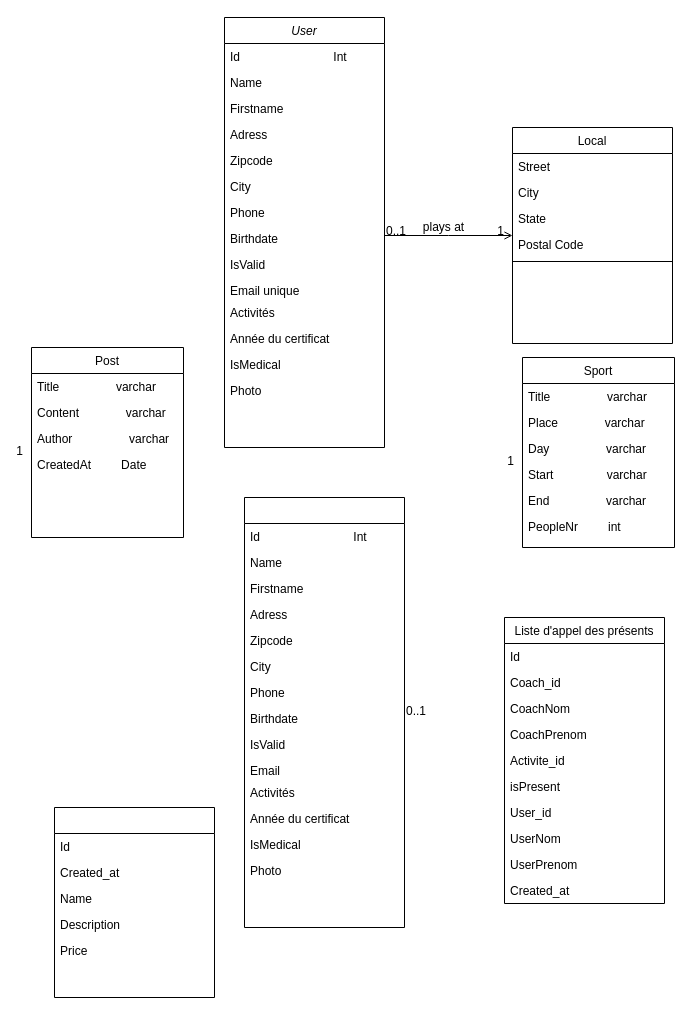
Image size: 693x1015. Some labels were removed from this diagram. Here are the shapes that lost their labels. From the top down, the box of each, then its label:
(244, 496, 404, 928): Child
(54, 806, 214, 998): Goodies
